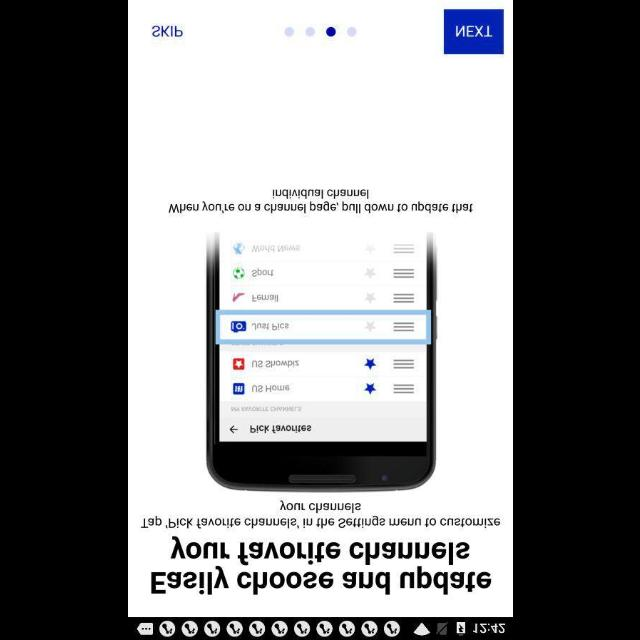image: (206, 228, 437, 492)
pageindicator: (283, 26, 357, 38)
text: (150, 536, 490, 594), (140, 499, 500, 528), (168, 188, 472, 214), (151, 25, 183, 37)
textbutton: (443, 10, 503, 54)
uppertaskbar: (128, 617, 512, 639)
